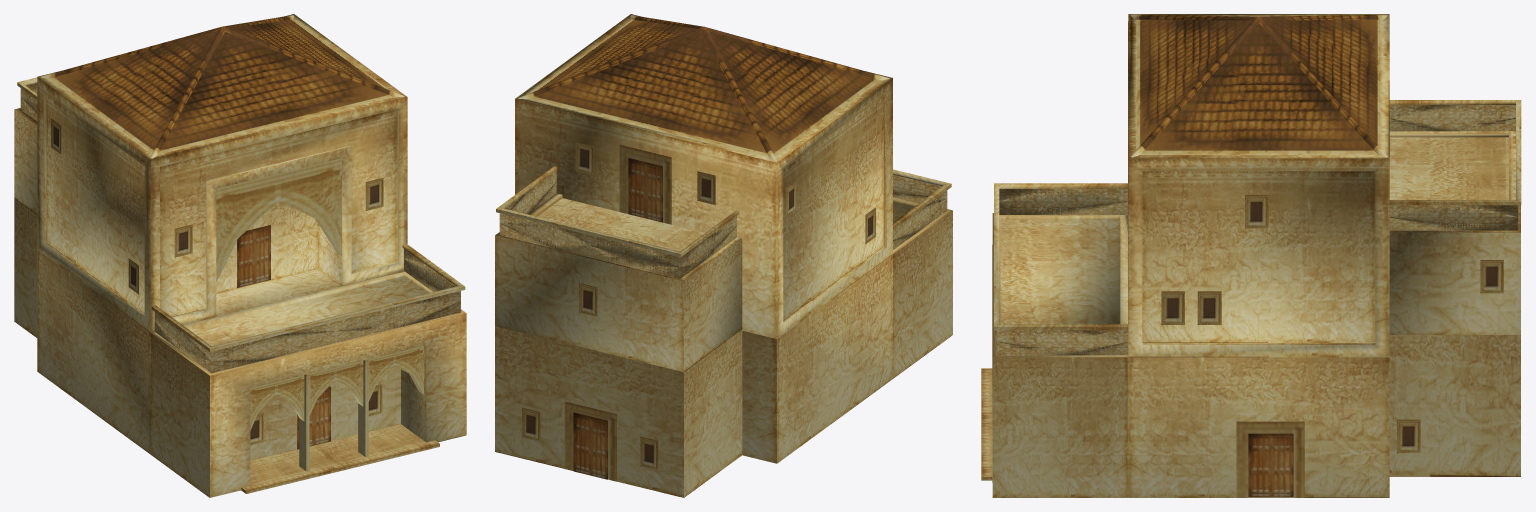
Rendered from Civilian - Residential Building - Mogadishu House 02 - Night - CBTHouse01_N.glb.
3 views of the same model, side by side, from view 1: azimuth 30°, elevation 25°; view 2: azimuth 150°, elevation 25°; view 3: azimuth 270°, elevation 25° (orthographic). The views are drawn at different scales.
Parts seen in each view (by area): view 1: CBTHOUSE01_N; view 2: CBTHOUSE01_N; view 3: CBTHOUSE01_N.
Part boxes in pixels (box(x1,y1,x2,y2)): CBTHOUSE01_N: box(14, 14, 466, 497); CBTHOUSE01_N: box(495, 14, 952, 497); CBTHOUSE01_N: box(981, 14, 1521, 497).
Bounding box in the file's own units: 40.25 × 53.09 × 63.66.
1 material, 1 textured.
